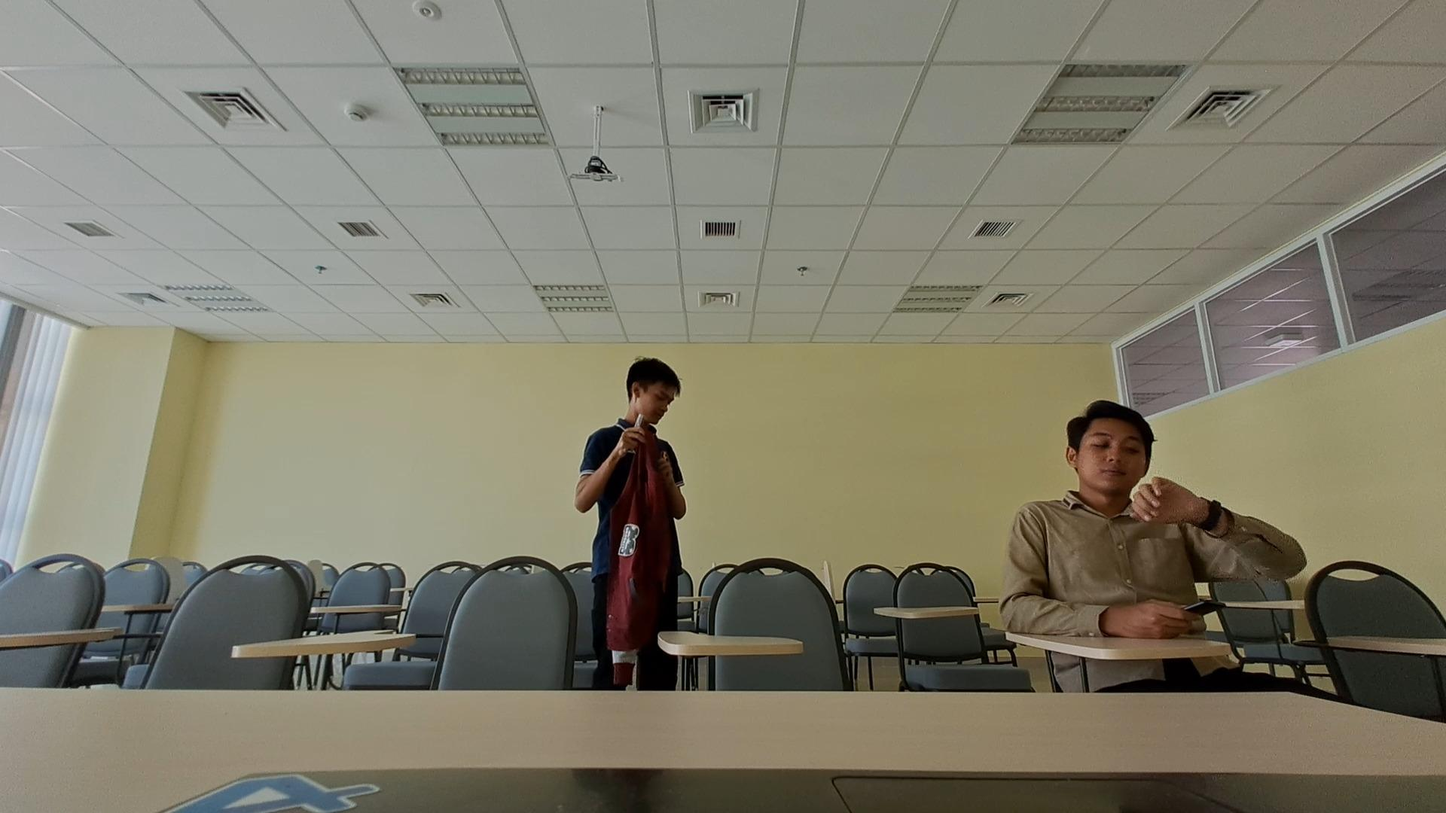phone: (1005, 358, 1273, 646)
